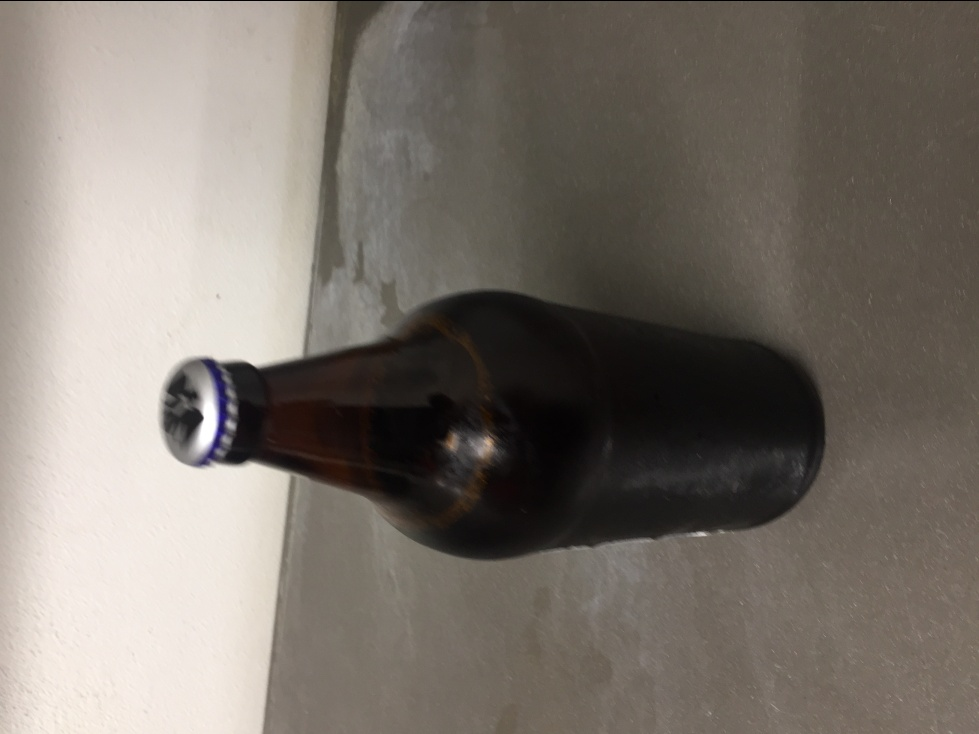tecateC: (153, 285, 823, 566)
